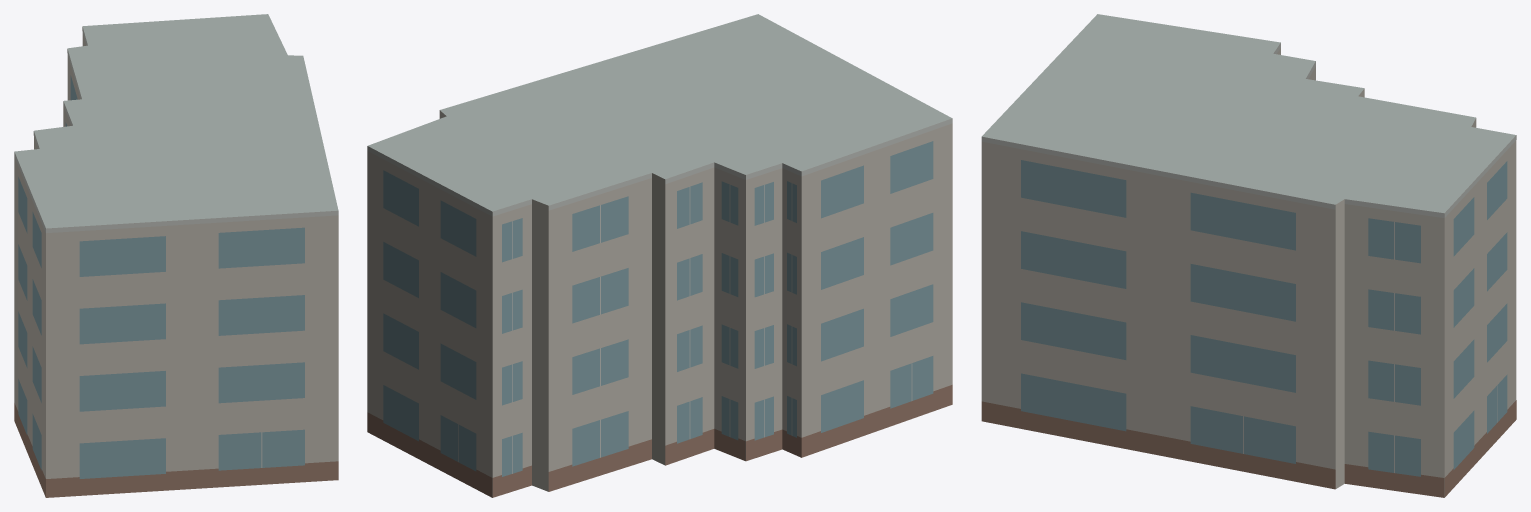
Rendered from survey-upis-32964217.glb.
3 views of the same model, side by side, from view 1: azimuth 30°, elevation 25°; view 2: azimuth 150°, elevation 25°; view 3: azimuth 270°, elevation 25° (orthographic). The views are drawn at different scales.
Parts seen in each view (by area): view 1: survey-upis-32964217.tmp; view 2: survey-upis-32964217.tmp; view 3: survey-upis-32964217.tmp.
Boxes of the visible parts, x1,y1,x2,y2 form: survey-upis-32964217.tmp: (14, 14, 338, 497); survey-upis-32964217.tmp: (367, 14, 952, 497); survey-upis-32964217.tmp: (981, 14, 1516, 497).
Size of the model in its own units: 21.03 by 14 by 23.85.
